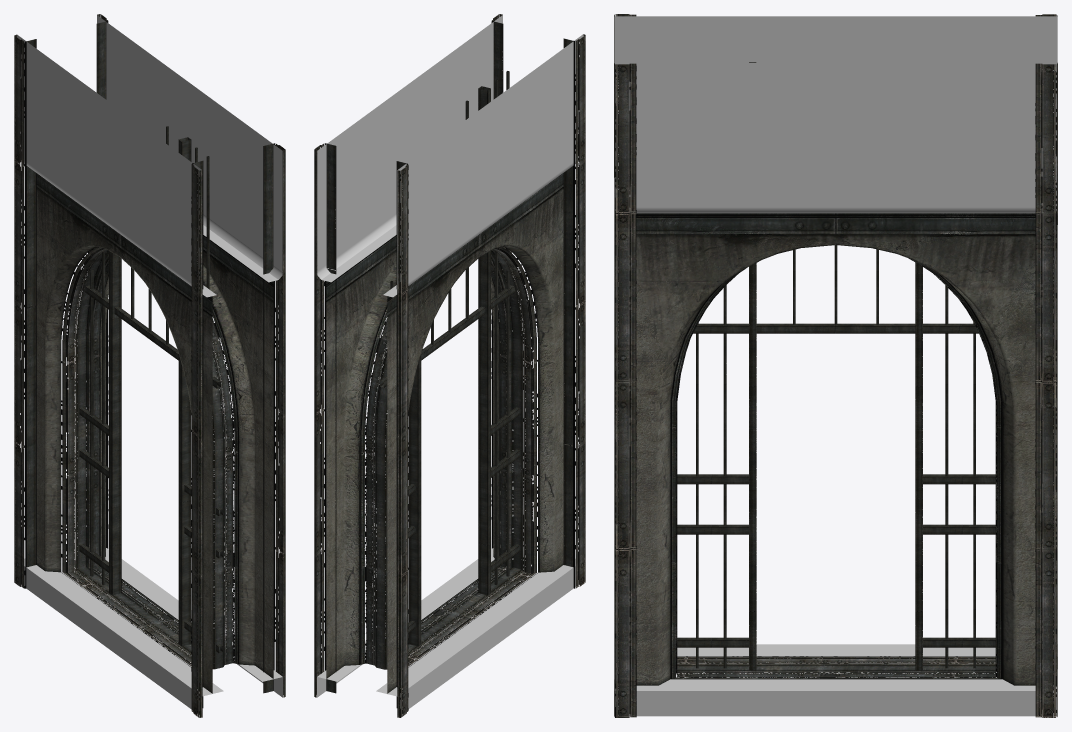
The model's file is tesla_ents_door_gate_01_open.dae.
The picture shows the model from 3 angles, left to right: view 1: azimuth 30°, elevation 25°; view 2: azimuth 150°, elevation 25°; view 3: azimuth 270°, elevation 25°; orthographic projection. The views are drawn at different scales.
Visible parts, largest first — view 1: door_gate_01_metal, door_gate_01_stone, door_gate_01_arch; view 2: door_gate_01_metal, door_gate_01_stone, door_gate_01_arch; view 3: door_gate_01_stone, door_gate_01_metal, door_gate_01_arch.
Part boxes in pixels (box(x1,y1,x2,y2)): door_gate_01_metal: box(14, 14, 285, 717); door_gate_01_stone: box(17, 15, 282, 714); door_gate_01_arch: box(27, 173, 273, 693); door_gate_01_metal: box(314, 14, 585, 717); door_gate_01_stone: box(317, 15, 582, 709); door_gate_01_arch: box(326, 173, 572, 693); door_gate_01_stone: box(614, 16, 1057, 716); door_gate_01_metal: box(614, 14, 1057, 717); door_gate_01_arch: box(615, 213, 1056, 685).
Size of the model in its own units: 107 by 650 by 400.
